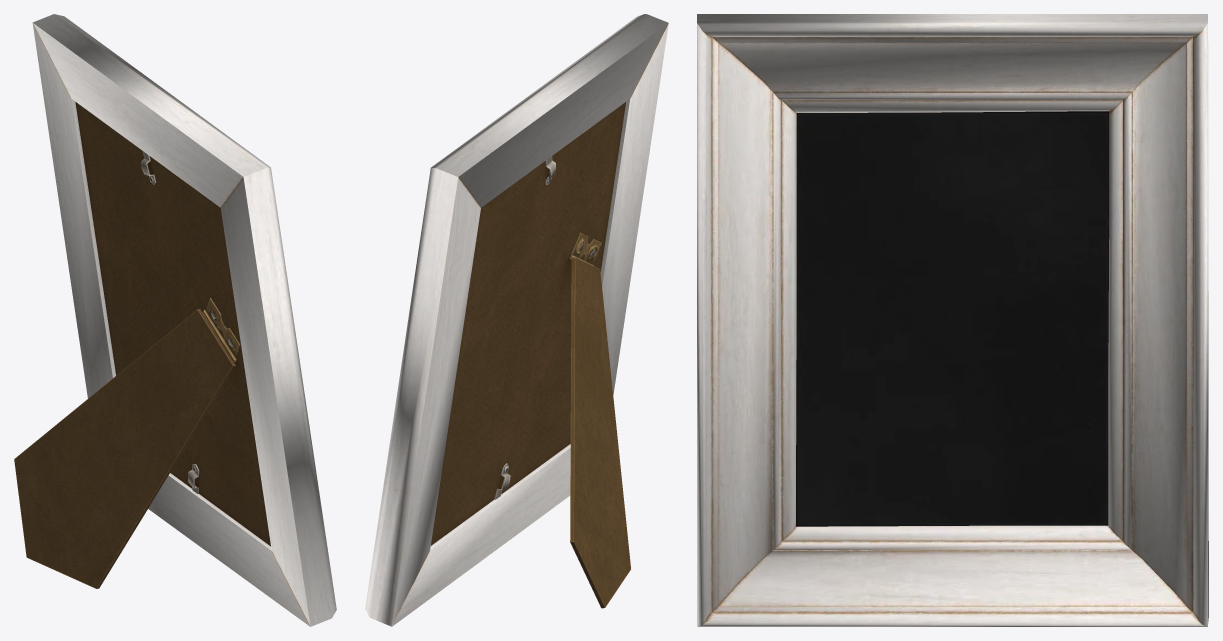
Rendered from standing_picture_frame_02.glb.
3 views of the same model, side by side, from view 1: azimuth 30°, elevation 25°; view 2: azimuth 150°, elevation 25°; view 3: azimuth 270°, elevation 25° (orthographic). The views are drawn at different scales.
Visible parts, largest first — view 1: standing_picture_frame_02; view 2: standing_picture_frame_02; view 3: standing_picture_frame_02.
Boxes of the visible parts, x1,y1,x2,y2 form: standing_picture_frame_02: (14, 14, 336, 626); standing_picture_frame_02: (365, 14, 668, 626); standing_picture_frame_02: (697, 14, 1208, 626).
Bounding box in the file's own units: 0.102 × 0.2661 × 0.2166.
3 materials, 3 textured.
